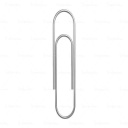Metal: (50, 7, 81, 122)
